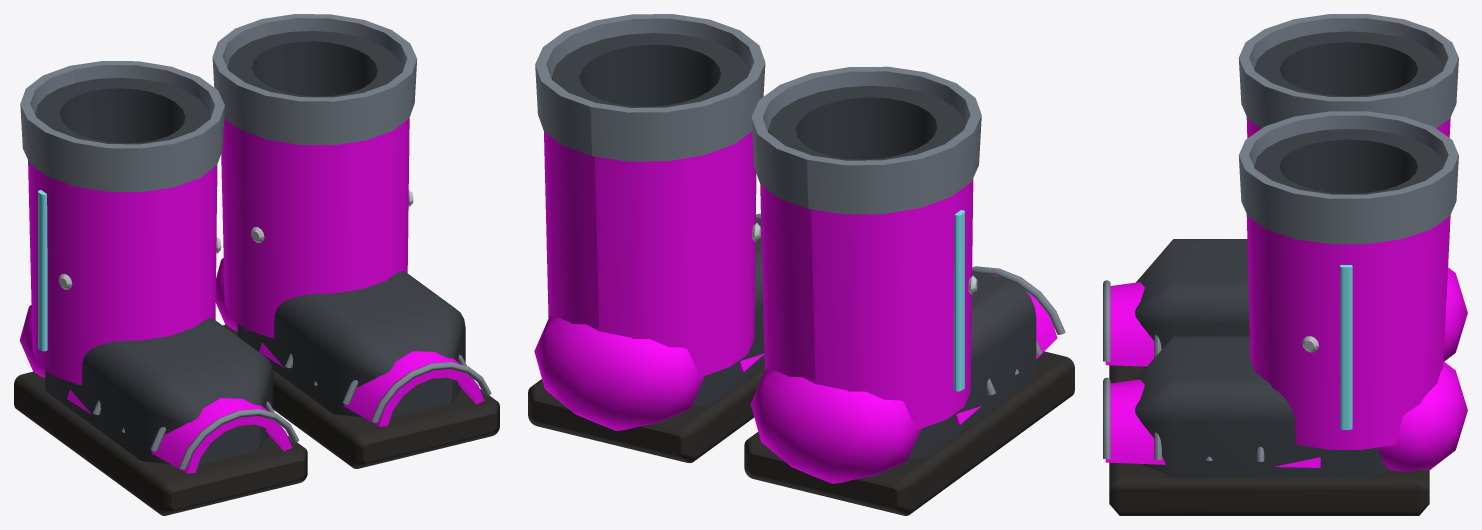
Rendered from porte_armure4_bottes.glb.
The picture shows the model from 3 angles, left to right: view 1: azimuth 30°, elevation 25°; view 2: azimuth 150°, elevation 25°; view 3: azimuth 270°, elevation 25°; orthographic projection. The views are drawn at different scales.
Visible parts, largest first — view 1: jambe_g__bottes_armure_teinte.010, jambe_d__bottes_armure_teinte.010, pied_d__bottes_armure_teinte_sombre.008, pied_g__bottes_armure_teinte_sombre.008, jambe_d__bottes_armure_acier_lisere.002, jambe_g__bottes_armure_acier_lisere.002, pied_d__bottes_armure_semelle.008, pied_g__bottes_armure_semelle.008, jambe_g__bottes_armure_teinte_sombre.008, jambe_d__bottes_armure_teinte_sombre.008, pied_d__bottes_armure_teinte.010, pied_g__bottes_armure_teinte.010 (+3 smaller); view 2: jambe_g__bottes_armure_teinte.010, jambe_d__bottes_armure_teinte.010, jambe_d__bottes_armure_acier_lisere.002, jambe_g__bottes_armure_acier_lisere.002, pied_d__bottes_armure_teinte.010, pied_g__bottes_armure_teinte.010, pied_d__bottes_armure_semelle.008, jambe_d__bottes_armure_teinte_sombre.008, jambe_g__bottes_armure_teinte_sombre.008, pied_d__bottes_armure_teinte_sombre.008, pied_g__bottes_armure_semelle.008, pied_g__bottes_armure_teinte_sombre.008 (+2 smaller); view 3: jambe_g__bottes_armure_teinte.010, pied_g__bottes_armure_teinte_sombre.008, jambe_g__bottes_armure_acier_lisere.002, pied_g__bottes_armure_semelle.008, jambe_d__bottes_armure_acier_lisere.002, pied_d__bottes_armure_teinte_sombre.008, jambe_g__bottes_armure_teinte_sombre.008, jambe_d__bottes_armure_teinte_sombre.008, pied_g__bottes_armure_teinte.010, pied_d__bottes_armure_teinte.010, jambe_g__bottes_armure_lueur.002, pied_g__bottes_armure_acier_lisere.002 (+2 smaller).
Boxes of the visible parts, x1,y1,x2,y2 form: jambe_g__bottes_armure_teinte.010: (221,118,409,338); jambe_d__bottes_armure_teinte.010: (28,160,217,385); pied_d__bottes_armure_teinte_sombre.008: (45,317,273,464); pied_g__bottes_armure_teinte_sombre.008: (237,270,465,417); jambe_d__bottes_armure_acier_lisere.002: (20,61,224,191); jambe_g__bottes_armure_acier_lisere.002: (212,14,417,145); pied_d__bottes_armure_semelle.008: (14,371,307,515); pied_g__bottes_armure_semelle.008: (223,324,499,468); jambe_g__bottes_armure_teinte_sombre.008: (227,31,402,97); jambe_d__bottes_armure_teinte_sombre.008: (35,77,210,144); pied_d__bottes_armure_teinte.010: (19,305,292,473); pied_g__bottes_armure_teinte.010: (215,258,484,426); jambe_g__bottes_armure_teinte.010: (544,131,756,376); jambe_d__bottes_armure_teinte.010: (760,178,973,429); jambe_d__bottes_armure_acier_lisere.002: (751,66,981,214); jambe_g__bottes_armure_acier_lisere.002: (535,14,765,161); pied_d__bottes_armure_teinte.010: (750,275,1057,483); pied_g__bottes_armure_teinte.010: (534,316,764,430); pied_d__bottes_armure_semelle.008: (744,351,1074,515); jambe_d__bottes_armure_teinte_sombre.008: (768,86,964,160); jambe_g__bottes_armure_teinte_sombre.008: (551,33,748,107); pied_d__bottes_armure_teinte_sombre.008: (908,270,1036,458); pied_g__bottes_armure_semelle.008: (528,365,764,462); pied_g__bottes_armure_teinte_sombre.008: (692,217,764,405); jambe_g__bottes_armure_teinte.010: (1246,214,1450,449); pied_g__bottes_armure_teinte_sombre.008: (1135,336,1389,477); jambe_g__bottes_armure_acier_lisere.002: (1238,111,1458,244); pied_g__bottes_armure_semelle.008: (1109,462,1429,515); jambe_d__bottes_armure_acier_lisere.002: (1238,14,1458,128); pied_d__bottes_armure_teinte_sombre.008: (1135,239,1249,368); jambe_g__bottes_armure_teinte_sombre.008: (1254,129,1443,194); jambe_d__bottes_armure_teinte_sombre.008: (1254,31,1443,96); pied_g__bottes_armure_teinte.010: (1105,361,1467,471); pied_d__bottes_armure_teinte.010: (1105,267,1467,366); jambe_g__bottes_armure_lueur.002: (1340,265,1352,429); pied_g__bottes_armure_acier_lisere.002: (1103,377,1264,461).
Size of the model in its own units: 0.3415 by 0.284 by 0.285.
